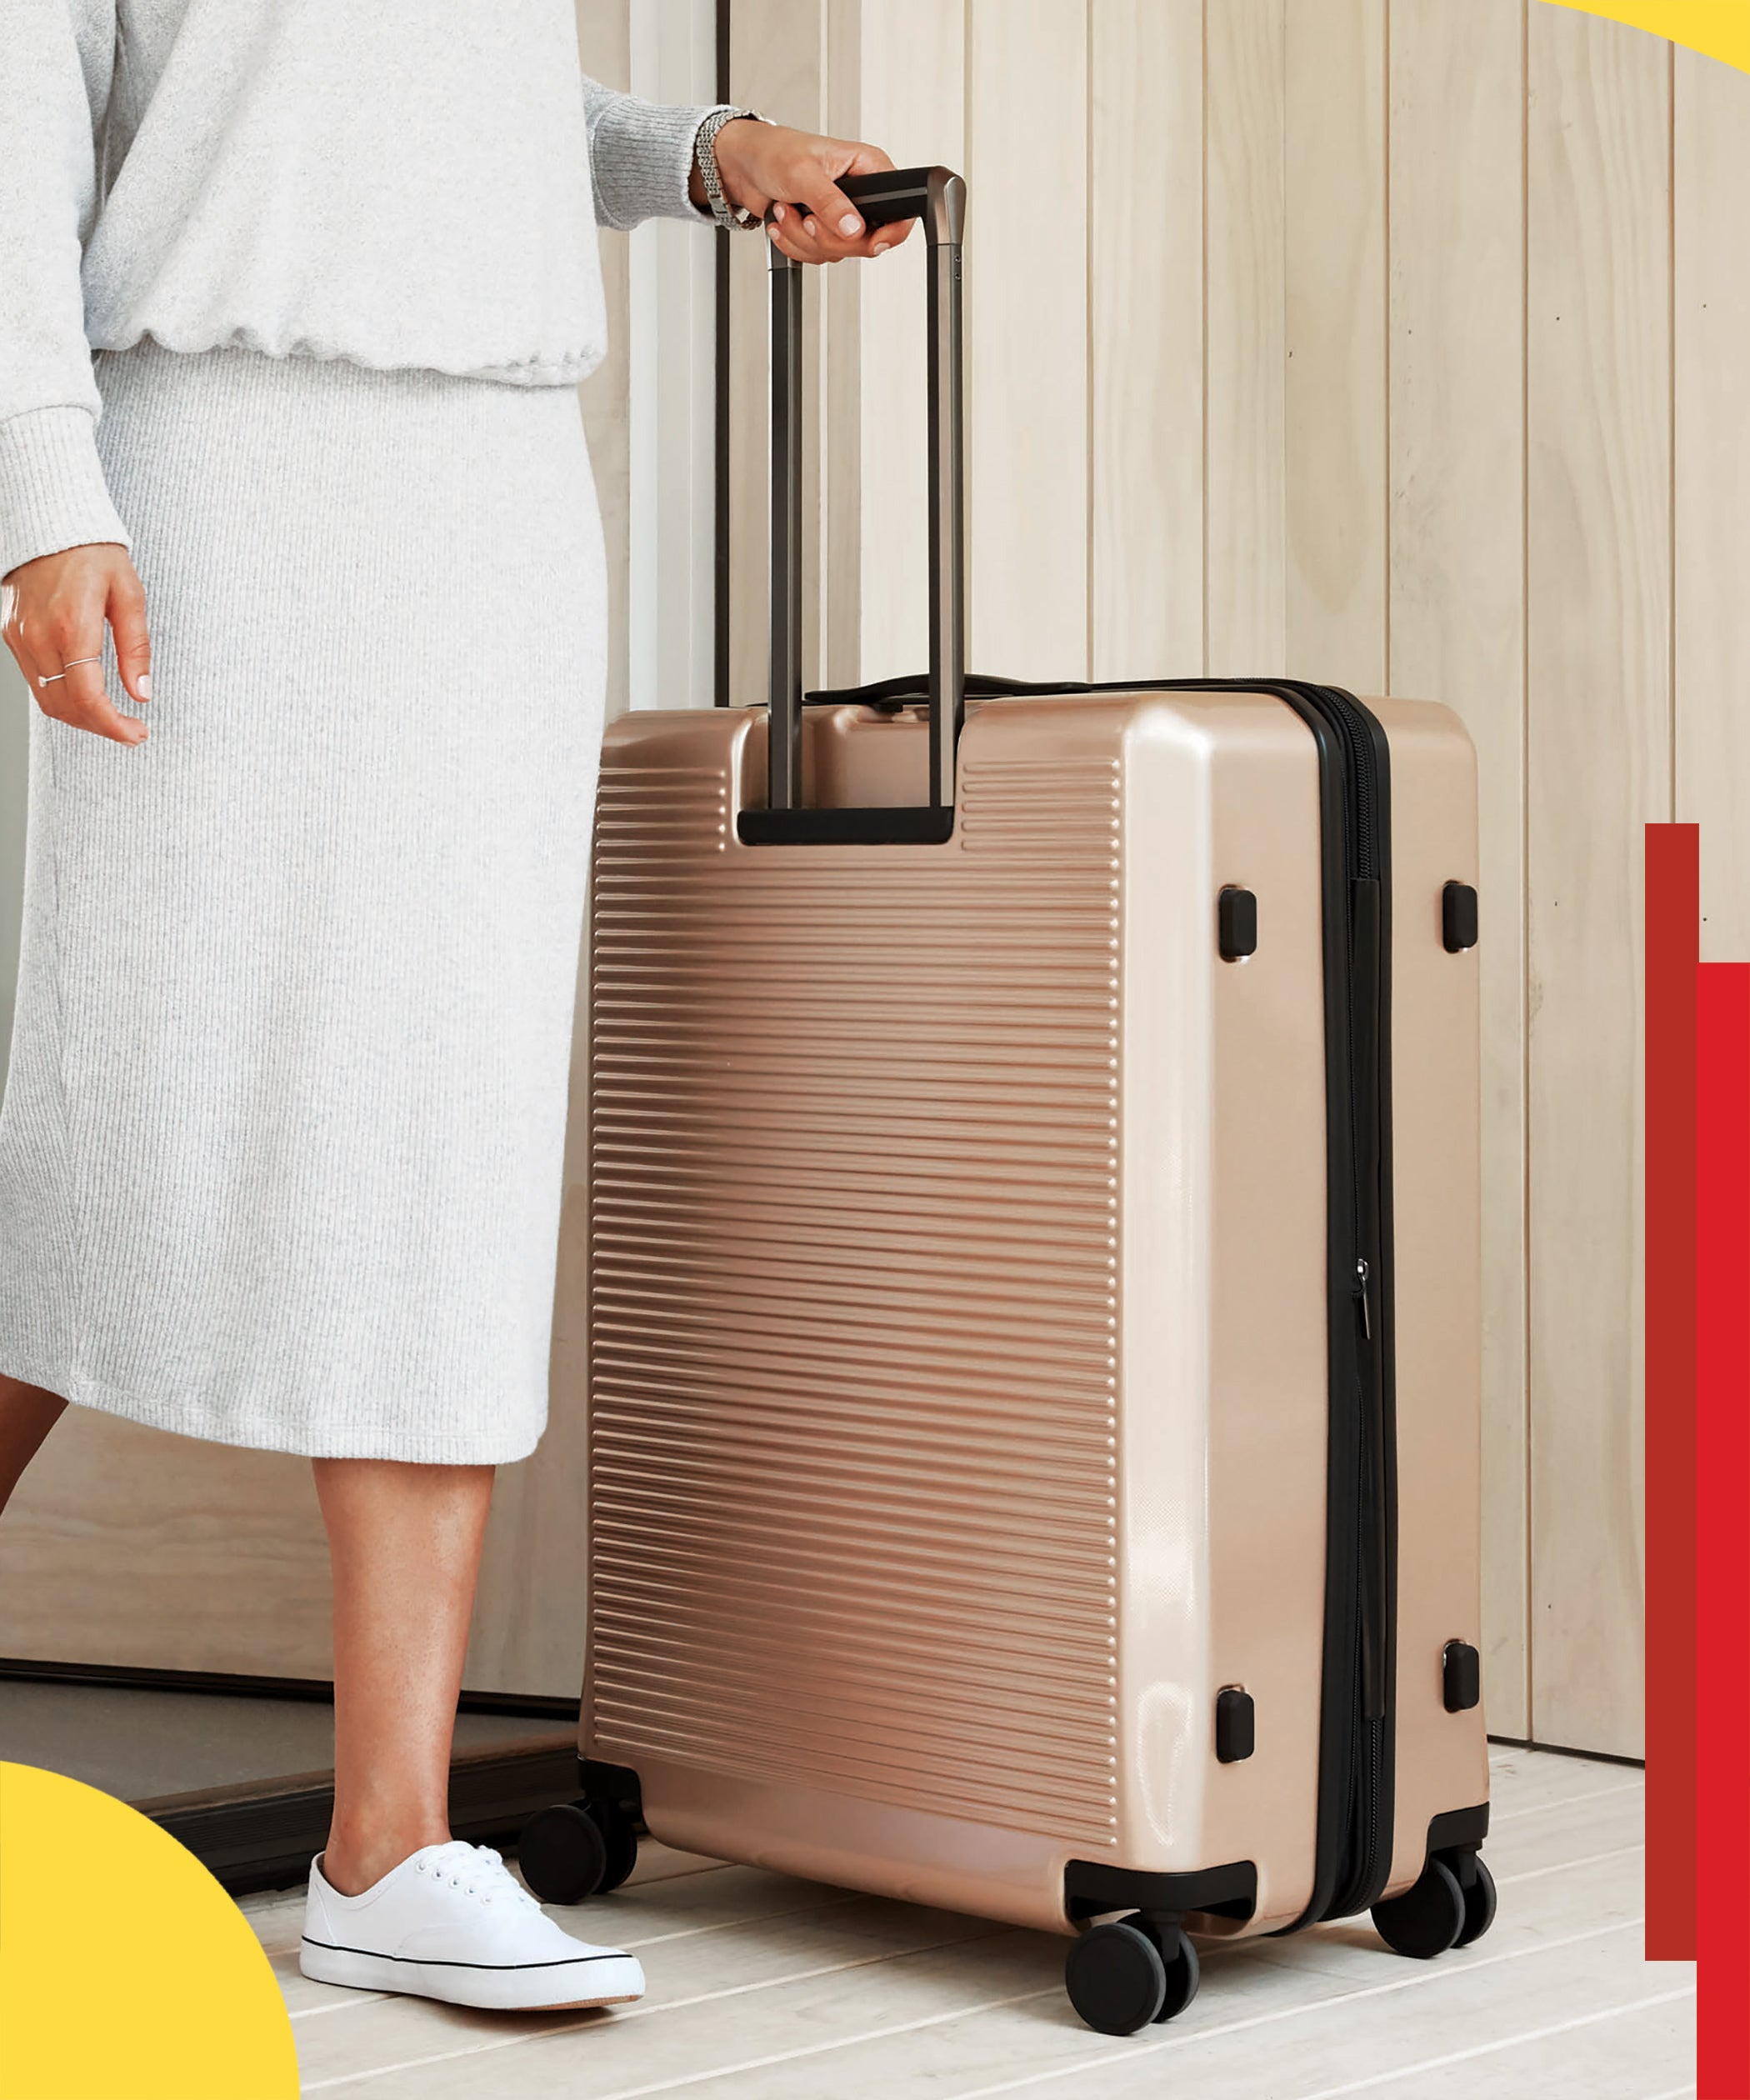luggage: (591, 228, 1511, 2018)
